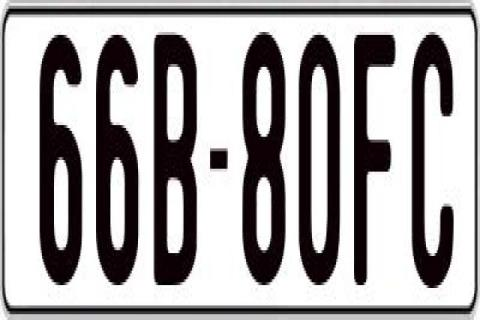0: (96, 32, 140, 296), (296, 35, 338, 303), (242, 23, 284, 285), (38, 32, 80, 288)
B: (150, 26, 198, 276)
C: (409, 23, 456, 285)
F: (354, 35, 400, 294)
